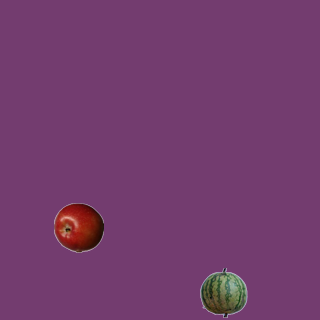Apple Braeburn: (53, 202, 103, 252)
Watermelon: (198, 267, 248, 317)
